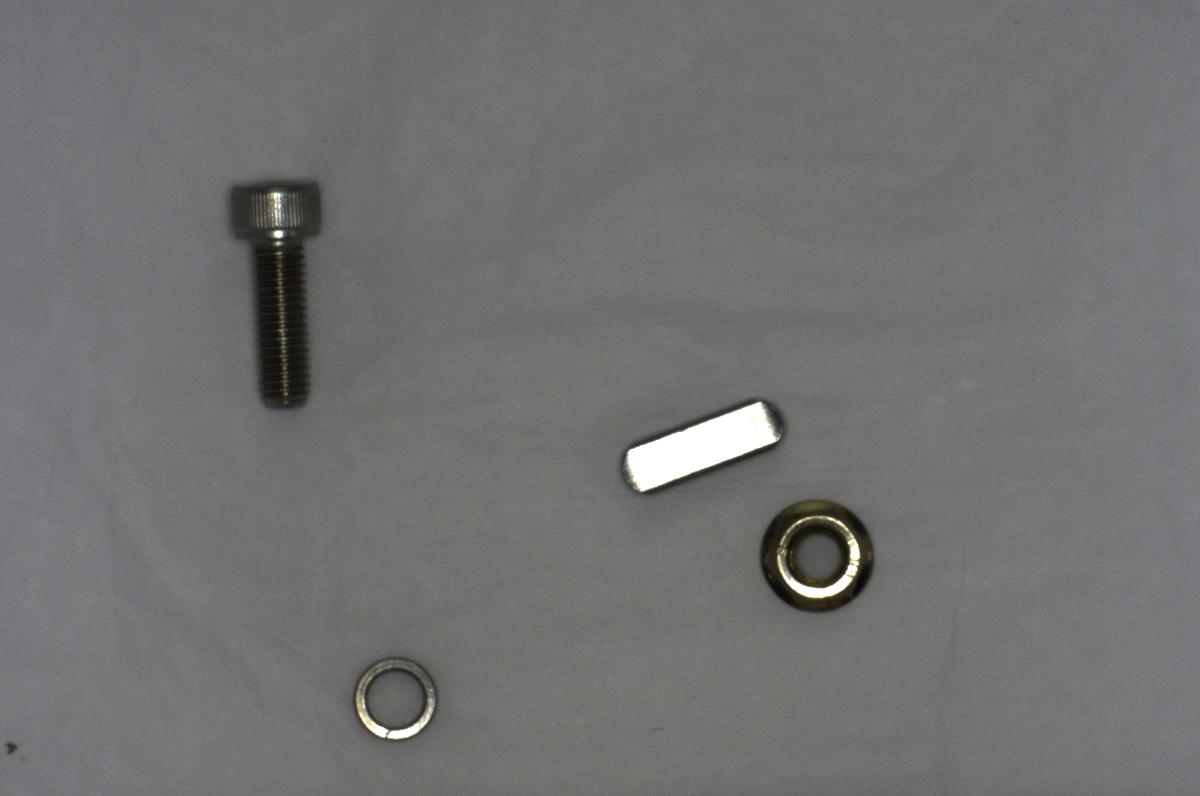Flange nut: (747, 490, 879, 615)
Hexagon screw: (225, 167, 332, 418)
Keybar: (619, 385, 792, 500)
Spring washer: (350, 647, 441, 747)
